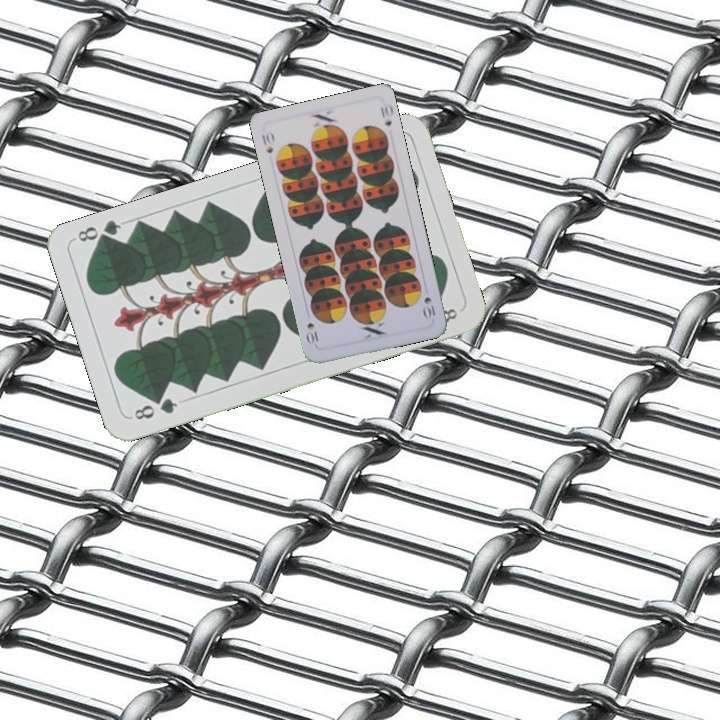G8: (130, 394, 181, 423)
S10: (419, 293, 438, 322), (258, 127, 277, 156)
